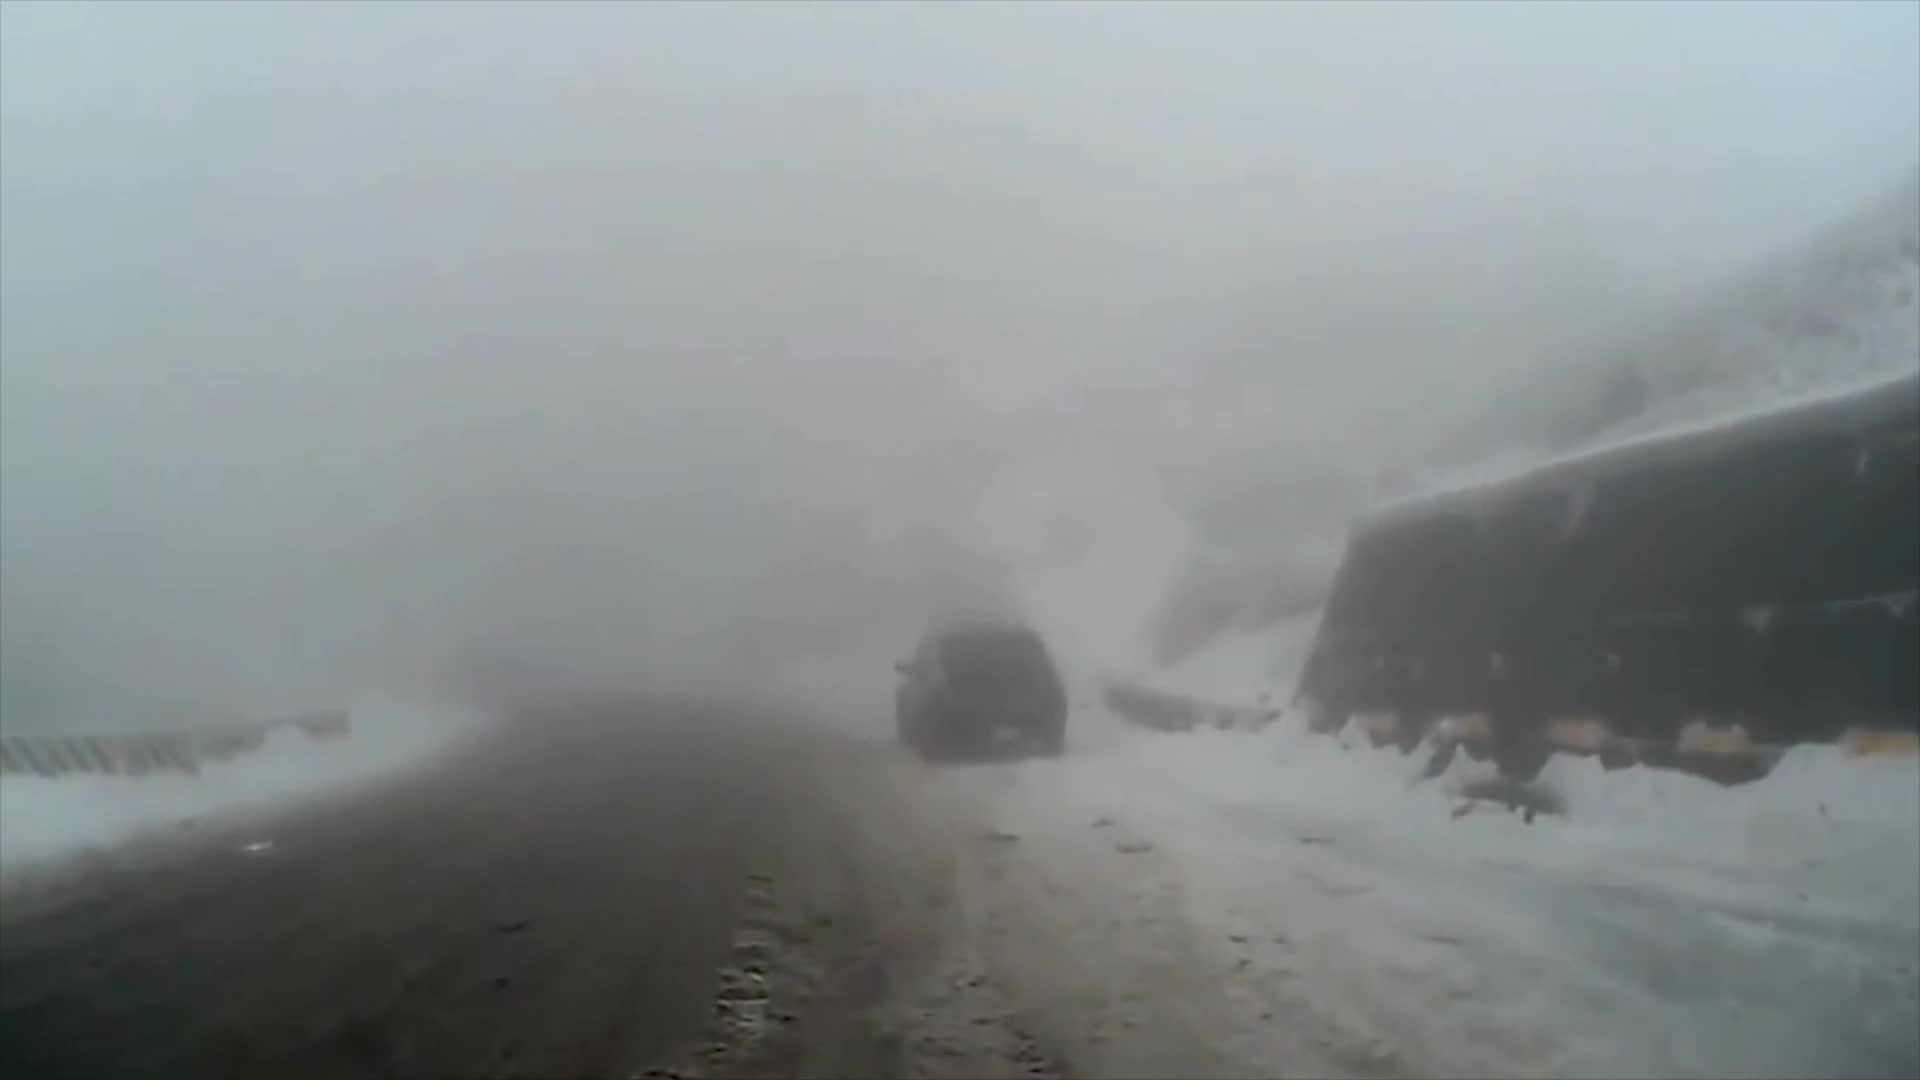vehicle: (887, 612, 1063, 760)
